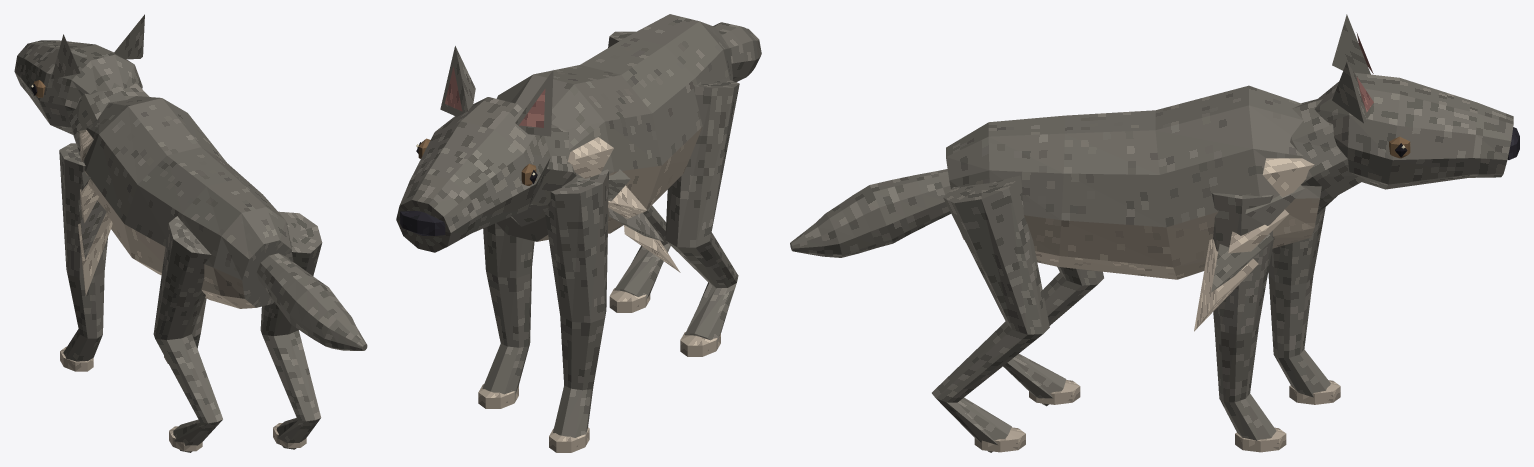
The model's file is mon_wolf.glb.
3 renders of one model, left to right at view 1: azimuth 30°, elevation 25°; view 2: azimuth 150°, elevation 25°; view 3: azimuth 270°, elevation 25°, orthographic. The views are drawn at different scales.
Parts seen in each view (by area): view 1: closed_body; view 2: closed_body; view 3: closed_body.
Part boxes in pixels (x1,y1,x2,y2): closed_body: (14, 14, 367, 452); closed_body: (396, 14, 761, 452); closed_body: (790, 14, 1519, 452).
Size of the model in its own units: 0.432 by 0.8168 by 1.38.
Materials: 1 (1 with a texture image).
